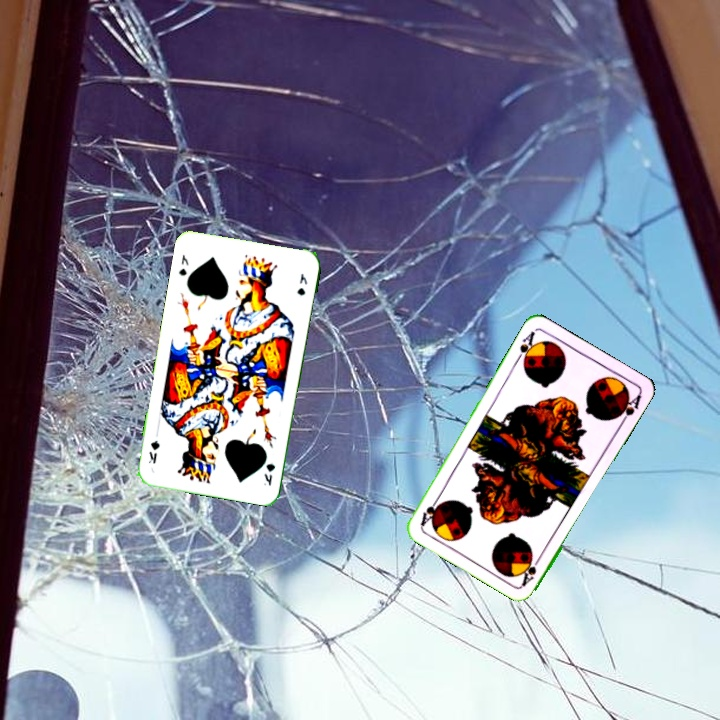GK: (260, 459, 277, 488), (175, 250, 191, 278)
SA: (512, 327, 538, 367), (518, 551, 544, 588)
